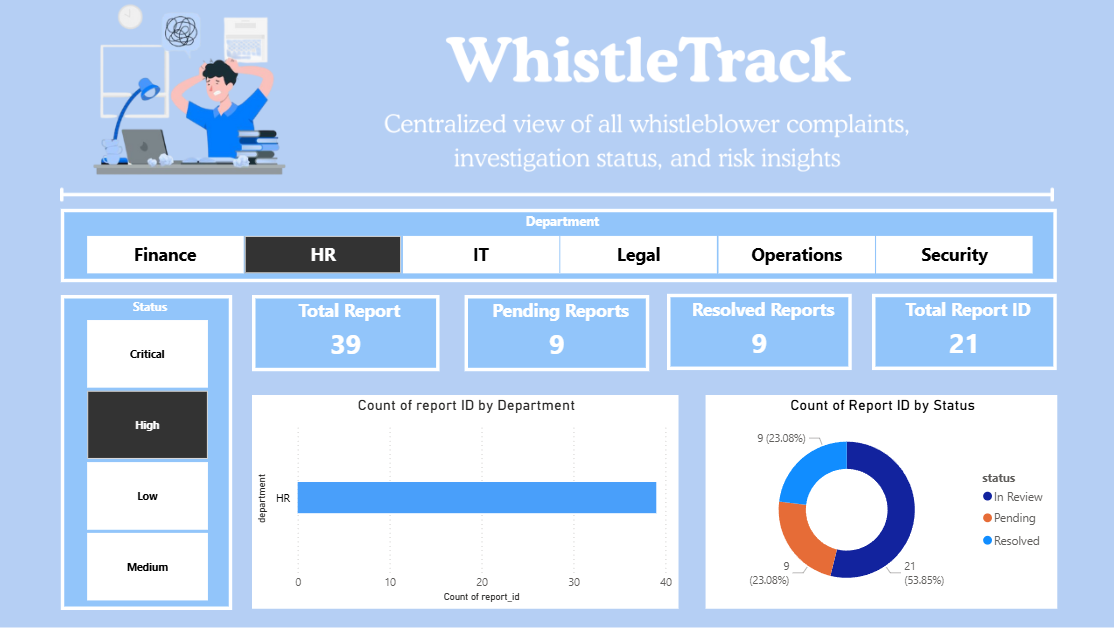

The dashboard page shown, as its layout file describes it:
{"tool":"powerbi","page":{"name":"Page 1","canvas":[1280,720],"ordinal":0},"visuals":[{"type":"slicer","fields":{"Values":["Sheet1.department"]},"box":[72.9,238.6,1138.6,84.3],"z":0},{"type":"slicer","fields":{"Values":["Sheet1.priority"]},"box":[72.9,335.7,195.7,360],"z":1000},{"type":"card","title":"Total Report ","fields":{"Values":["CountNonNull(Table 1 (Sheet1).report_id)"]},"box":[291.4,337.1,214.3,87.1],"z":2000},{"type":"actionButton","box":[0,0,100,40],"z":7000},{"type":"clusteredBarChart","title":"Count of report ID by Department","fields":{"Category":["Sheet1.department"],"Y":["CountNonNull(Sheet1.report_id)"]},"box":[291.4,451.4,487.1,244.3],"z":7001},{"type":"donutChart","title":"Count of Report ID by Status","fields":{"Y":["CountNonNull(Sheet1.report_id)"],"Category":["status (Sheet1).status"]},"box":[810,451.4,401.4,244.3],"z":7002},{"type":"card","title":"Pending Reports","fields":{"Values":["Sheet1.Pending Reports"]},"box":[534.3,337.1,211.4,87.1],"z":7003},{"type":"card","title":"Resolved Reports","fields":{"Values":["Sheet1.Resolved Reports"]},"box":[765.7,335.7,211.4,87.1],"z":7004},{"type":"card","title":"Total Report ID","fields":{"Values":["Sheet1.In Review Reports"]},"box":[1000,335.7,211.4,87.1],"z":7006}]}

Visuals, with their boxes in screenshot pixels (x1, y1, x2, y2), scaled from the page's 1280x720 canvas onto the 1114x629 screenshot:
slicer - Sheet1.department: 63/208/1054/282
slicer - Sheet1.priority: 63/293/234/608
"Total Report " card: 254/294/440/371
actionButton: 0/0/87/35
"Count of report ID by Department" clusteredBarChart: 254/394/678/608
"Count of Report ID by Status" donutChart: 705/394/1054/608
"Pending Reports" card: 465/294/649/371
"Resolved Reports" card: 666/293/850/369
"Total Report ID" card: 870/293/1054/369
